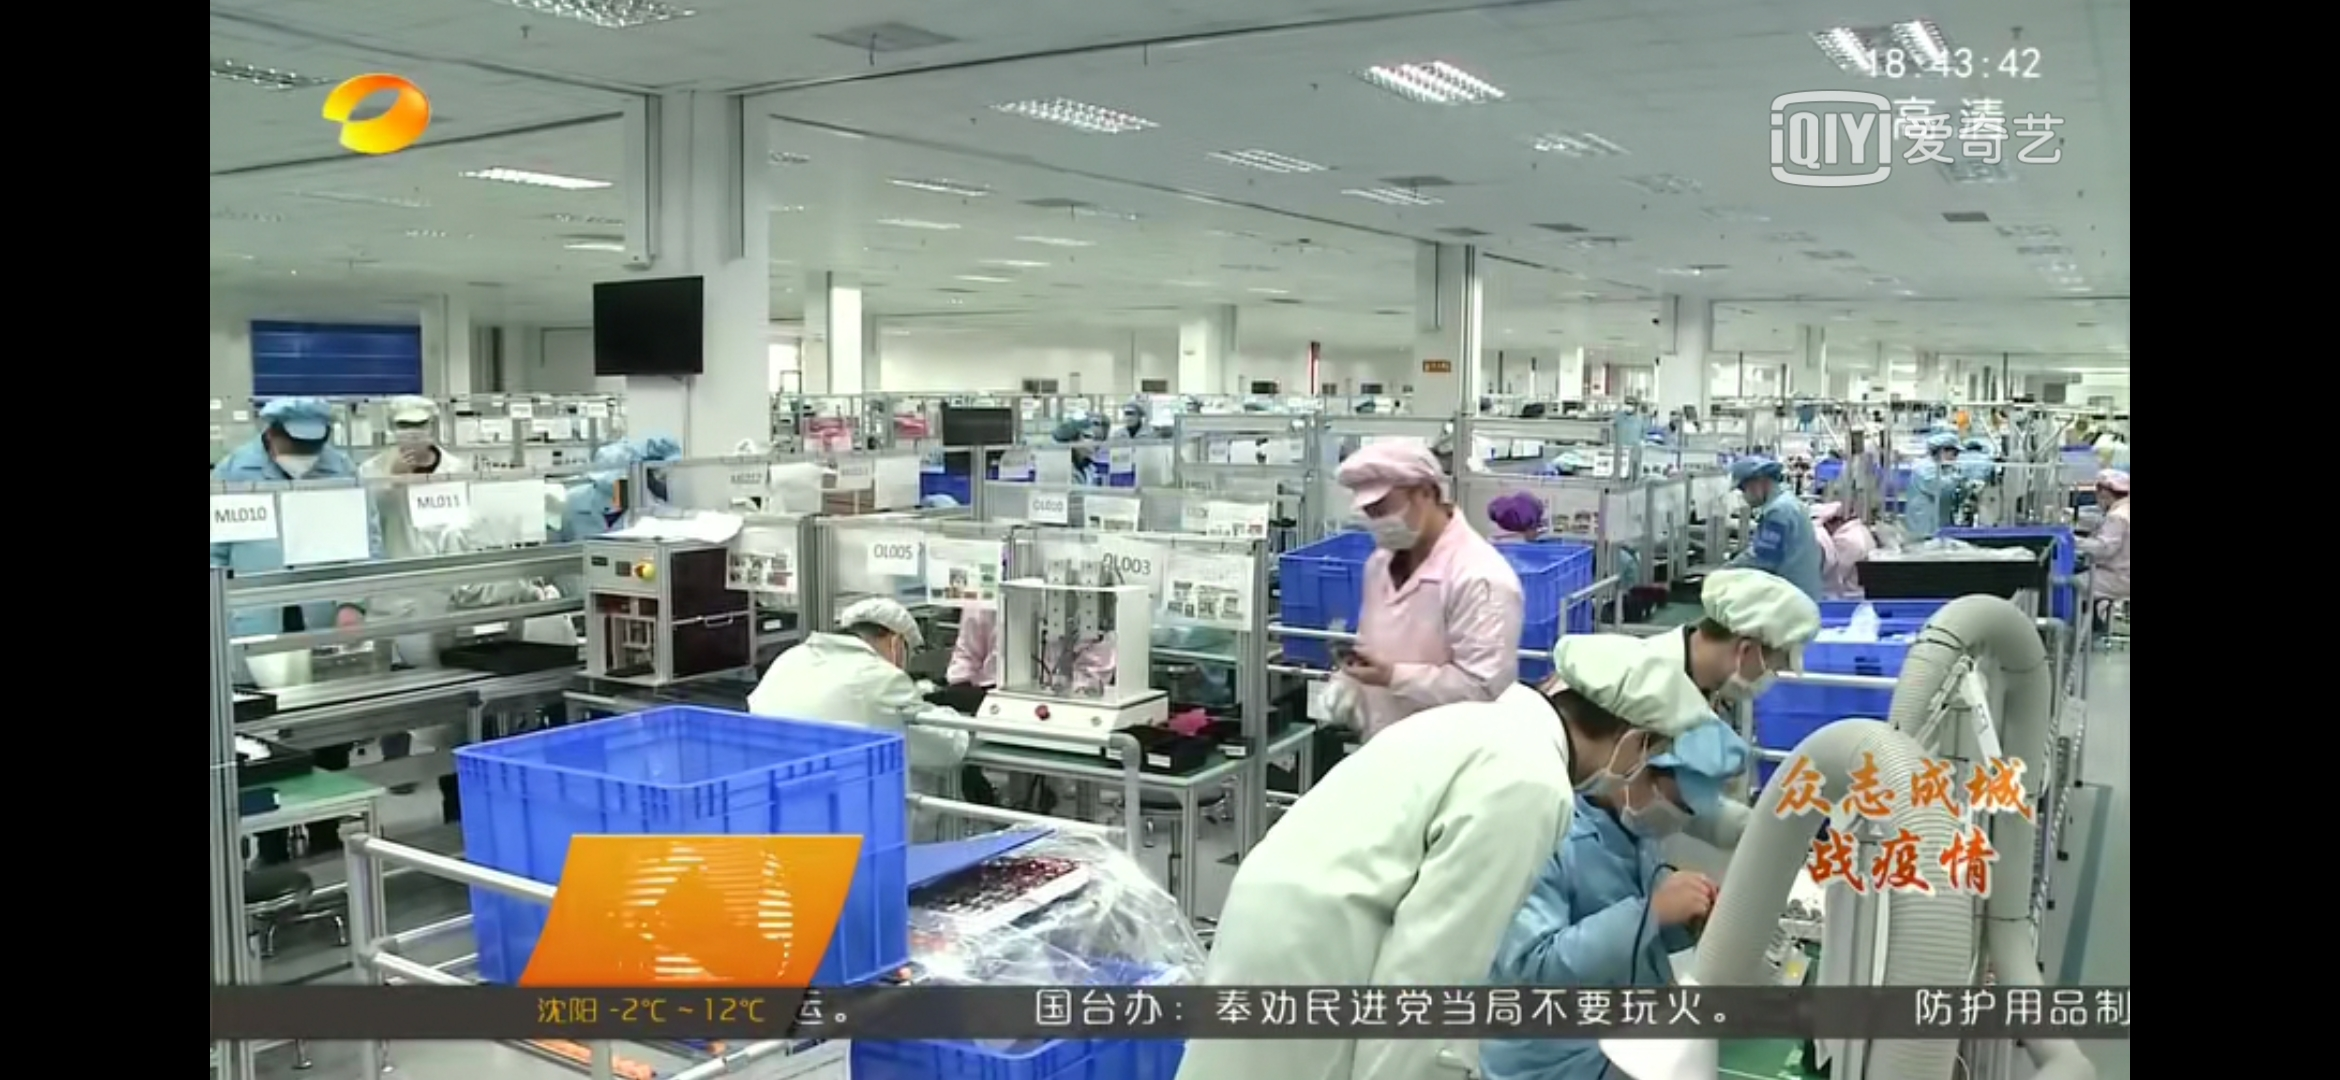correctlyWear: (1577, 718, 1657, 814), (1363, 482, 1445, 570), (1707, 635, 1792, 710), (1621, 771, 1707, 841), (272, 428, 325, 477), (388, 413, 436, 458), (1737, 477, 1767, 504)
